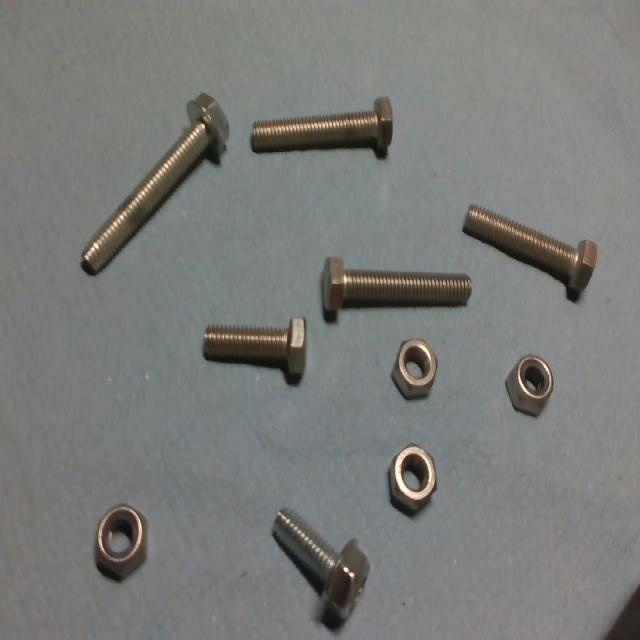Bolt: (77, 88, 236, 279), (458, 202, 601, 300), (266, 499, 372, 626), (246, 87, 400, 160), (317, 252, 474, 322), (194, 308, 319, 382)
Nut: (93, 500, 152, 586), (503, 349, 561, 419), (389, 443, 443, 516), (389, 334, 443, 402)
